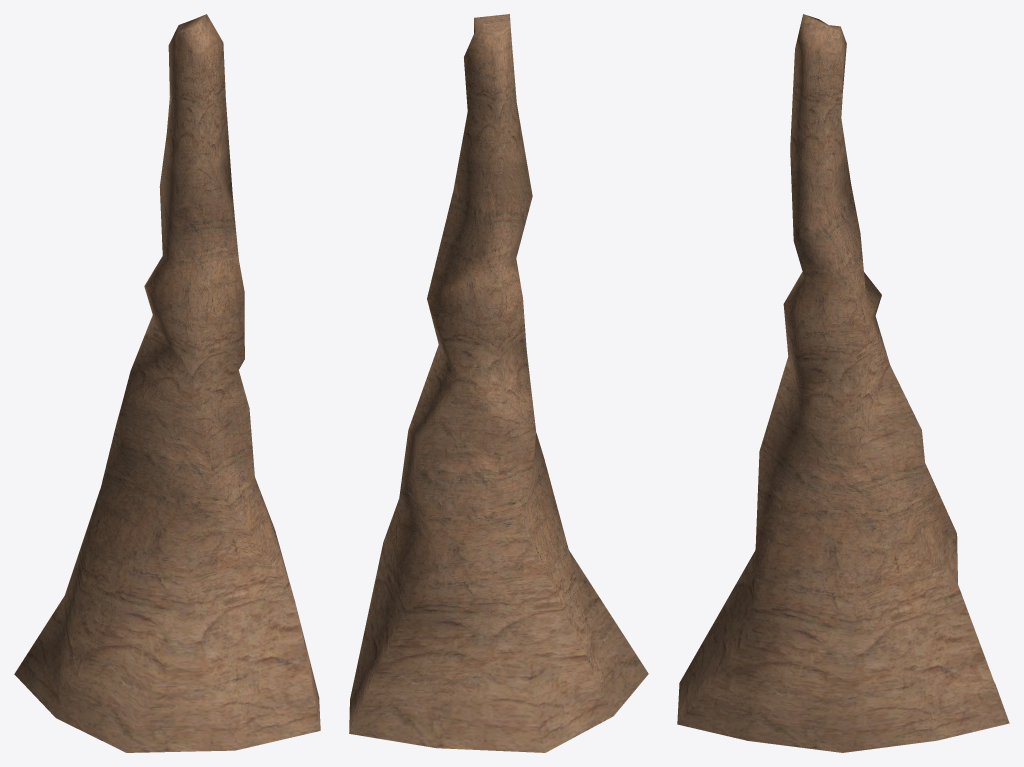
Rendered from rock_tatt_spire_skinny_a1_l2.fbx.
The picture shows the model from 3 angles, left to right: view 1: azimuth 30°, elevation 25°; view 2: azimuth 150°, elevation 25°; view 3: azimuth 270°, elevation 25°; orthographic projection. The views are drawn at different scales.
Parts seen in each view (by area): view 1: mesh_node; view 2: mesh_node; view 3: mesh_node.
Boxes of the visible parts, x1,y1,x2,y2 form: mesh_node: (14, 14, 320, 752); mesh_node: (349, 14, 648, 752); mesh_node: (677, 14, 1009, 752).
Size of the model in its own units: 28.31 by 74.72 by 33.14.
Materials: 1 (1 with a texture image).
